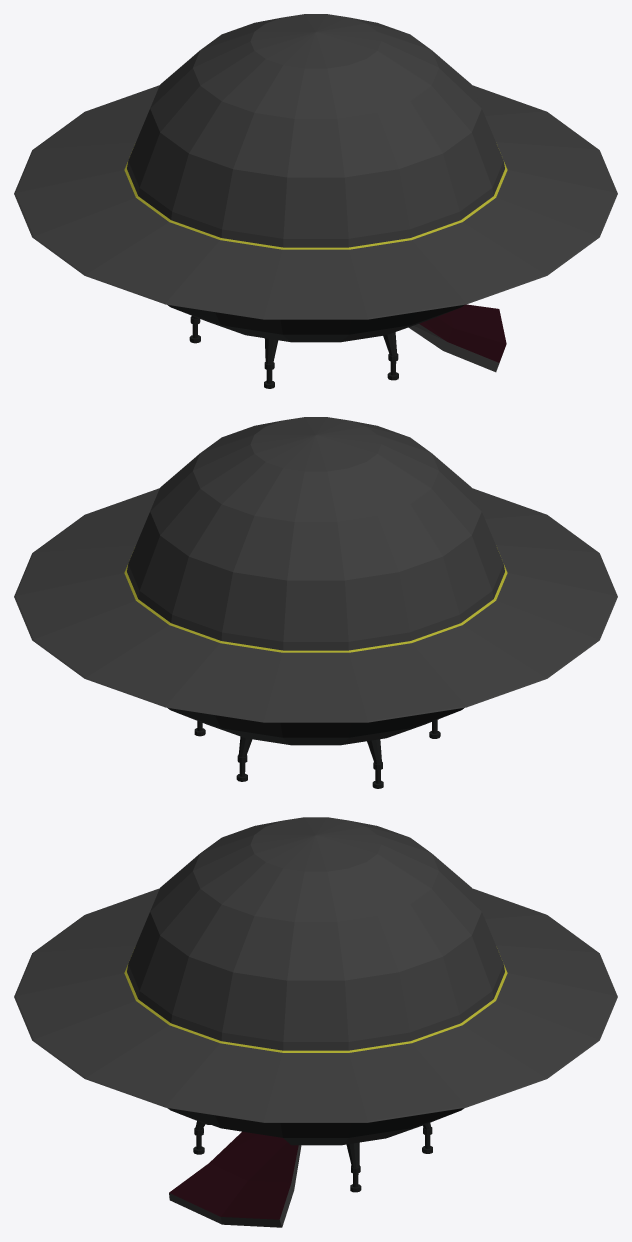
The model's file is Soucoupe_v03.FBX.
3 renders of one model, top to bottom at view 1: azimuth 30°, elevation 25°; view 2: azimuth 150°, elevation 25°; view 3: azimuth 270°, elevation 25°, orthographic.
Visible parts, largest first — view 1: Soucoupe; view 2: Soucoupe; view 3: Soucoupe.
Boxes of the visible parts, box(x1,y1,x2,y2) form: Soucoupe: box(14, 14, 617, 388); Soucoupe: box(14, 417, 617, 788); Soucoupe: box(14, 817, 617, 1227).
Bounding box in the file's own units: 5.67 × 3.37 × 5.75.
